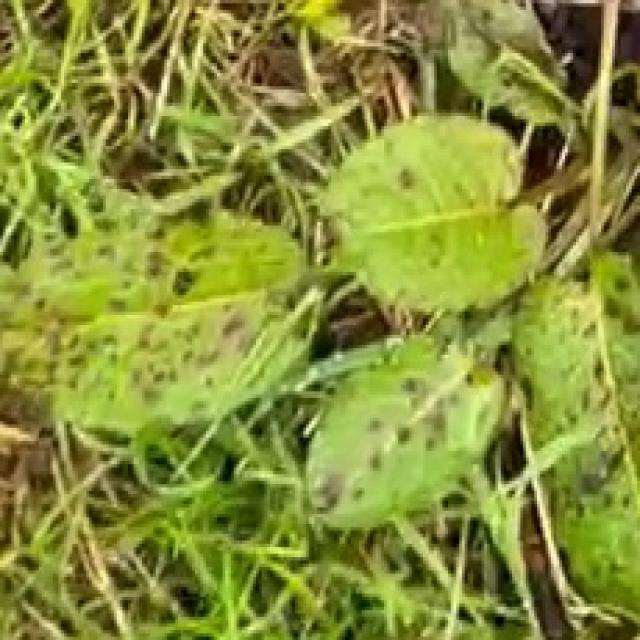organic waste: (0, 98, 640, 608)
